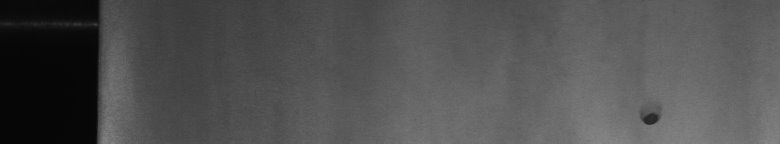fi: (636, 104, 664, 132)
